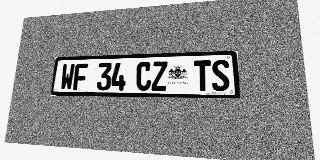3: (96, 63, 112, 90)
4: (111, 62, 126, 91)
C: (136, 62, 152, 91)
F: (73, 63, 88, 90)
S: (211, 60, 230, 91)
T: (194, 60, 211, 91)
W: (60, 64, 75, 90)
Z: (151, 61, 167, 91)
